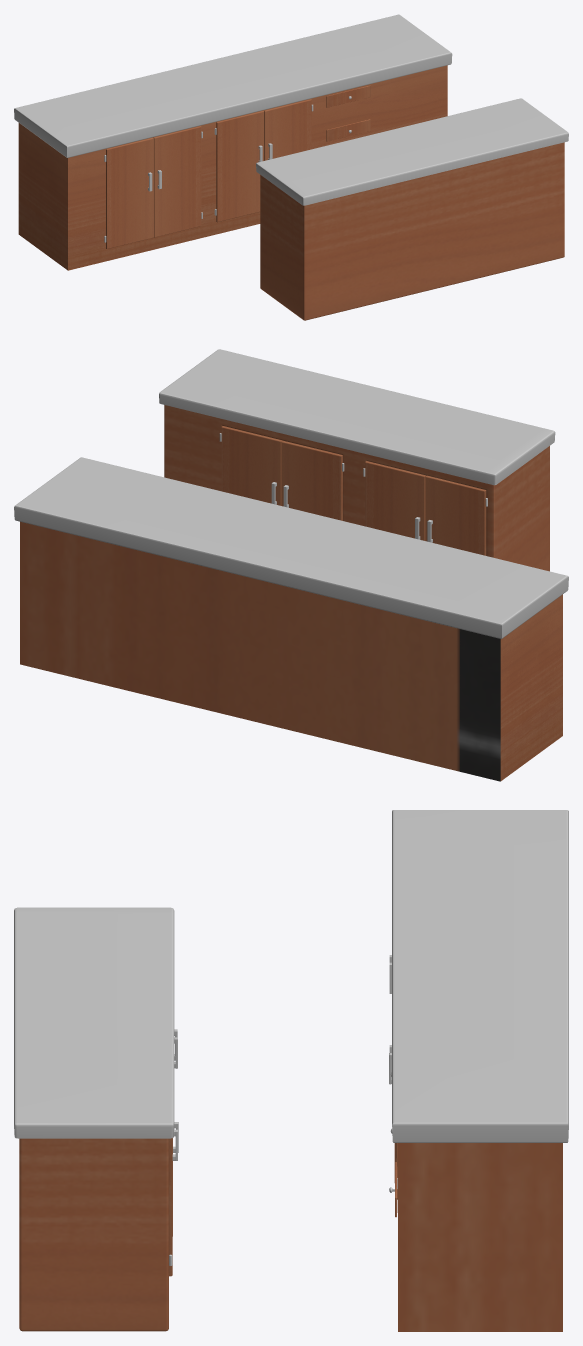
Rendered from cabinets.fbx.
3 views of the same model, one above another, from view 1: azimuth 30°, elevation 25°; view 2: azimuth 150°, elevation 25°; view 3: azimuth 270°, elevation 25° (orthographic). The views are drawn at different scales.
Parts seen in each view (by area): view 1: counter_front1, polySurface26, pCube19 (×4), polySurface22, polySurface23; view 2: polySurface26, counter_front1, pCube19 (×4); view 3: polySurface26, counter_front1.
Part boxes in pixels (x1,y1,x2,y2): counter_front1: (256,98,568,320); polySurface26: (14,14,452,270); pCube19 (×4): (106,99,311,248); polySurface22: (326,85,370,107); polySurface23: (326,119,370,141); polySurface26: (14,457,568,781); counter_front1: (159,349,555,571); pCube19 (×4): (221,426,486,555); polySurface26: (392,810,568,1331); counter_front1: (14,907,174,1331).
Bounding box in the file's own units: 11.75 × 3.68 × 8.67.
